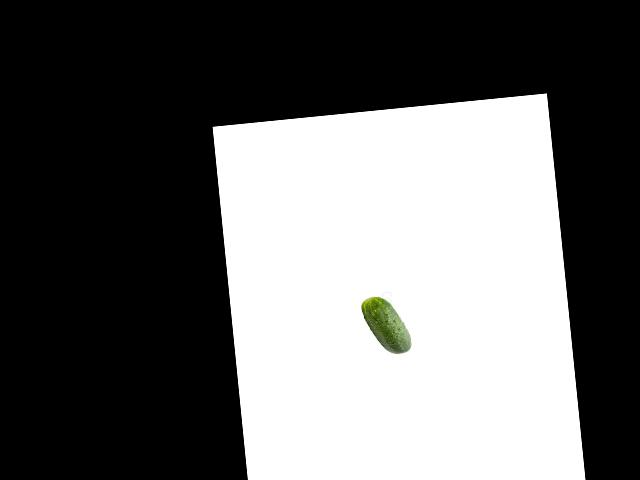cucumber: (360, 293, 412, 357)
